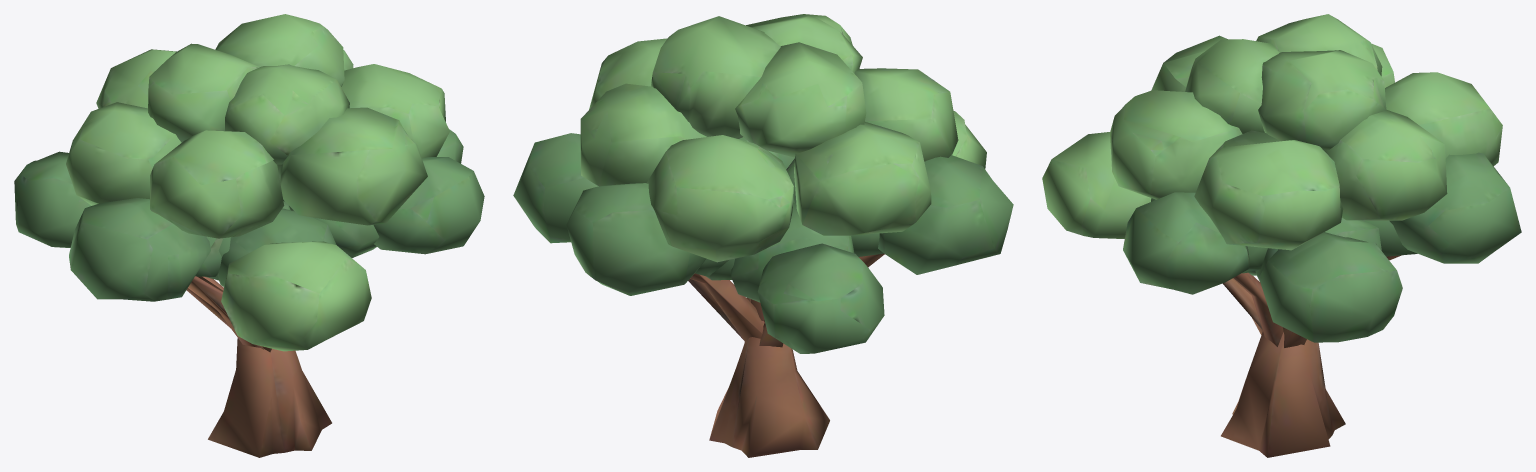
The model's file is p_oak.glb.
3 views of the same model, side by side, from view 1: azimuth 30°, elevation 25°; view 2: azimuth 150°, elevation 25°; view 3: azimuth 270°, elevation 25° (orthographic). The views are drawn at different scales.
Visible parts, largest first — view 1: oak-tree_body; view 2: oak-tree_body; view 3: oak-tree_body.
Boxes of the visible parts, <box> form: oak-tree_body: <box>14,14,484,457</box>; oak-tree_body: <box>513,14,1013,457</box>; oak-tree_body: <box>1042,14,1521,457</box>.
Bounding box in the file's own units: 7.59 × 6.84 × 7.51.
1 material, 1 textured.
